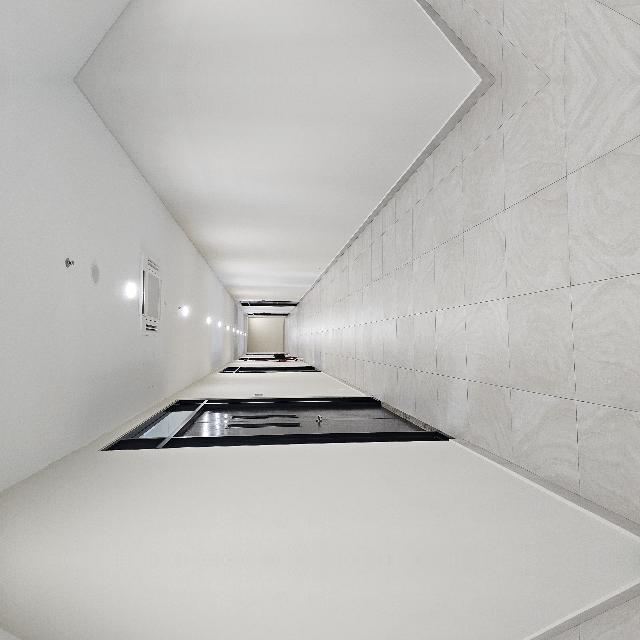door: (120, 249, 162, 525), (119, 595, 162, 640)
